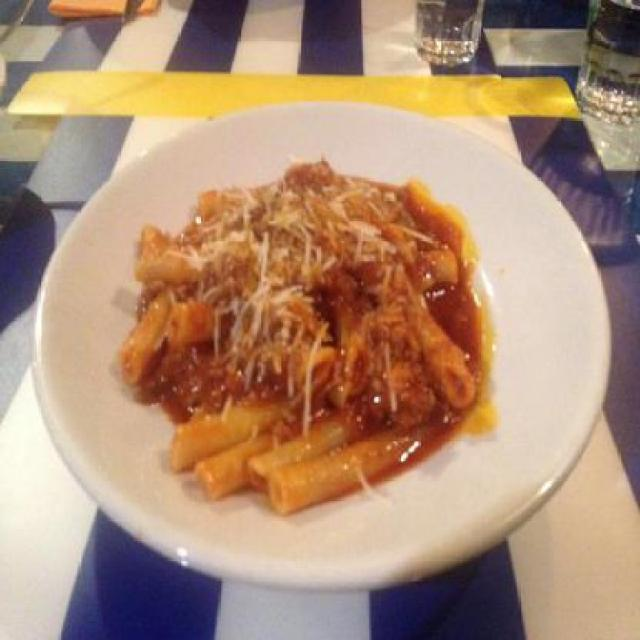Pasta al ragu: (101, 121, 522, 550)
